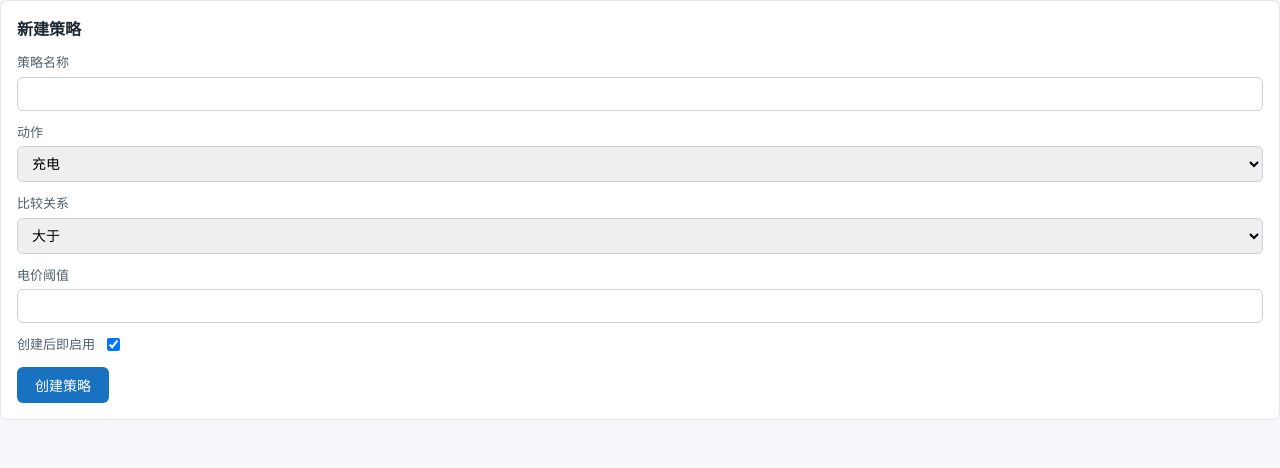
Test: StrategyForm 创建策略（需求 4.3） › 填写并提交后经 POST /api/trading/strategies 提交正确入参并提示成功
// 填写名称与电价阈值（动作/比较关系使用默认 charge / greater_than）
Type "夜间充电" into the field labelled "策略名称" at (640, 94), box [17,76,1263,110]
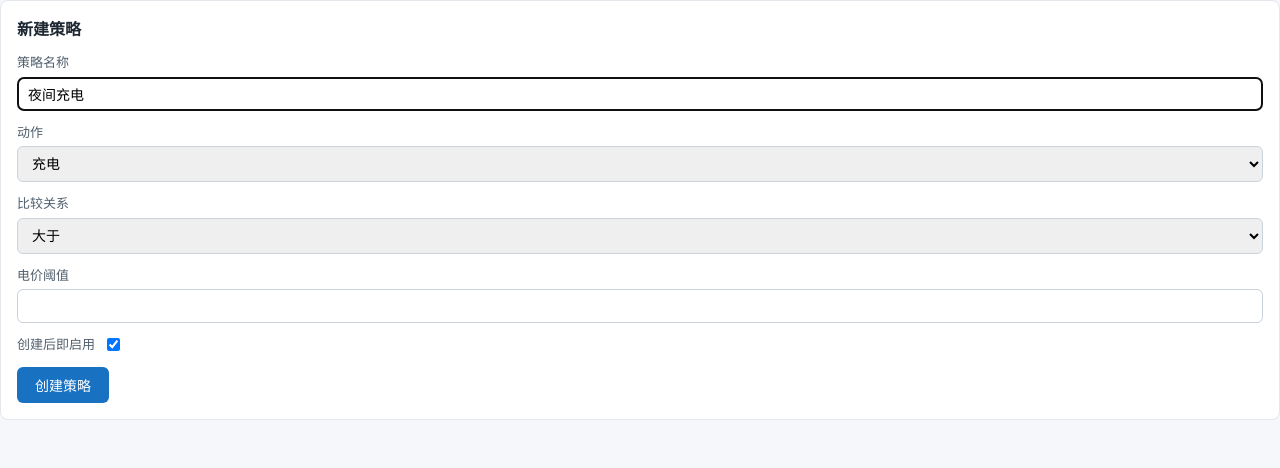
Type "0.5" into the number field labelled "电价阈值" at (640, 306), box [17,289,1263,323]
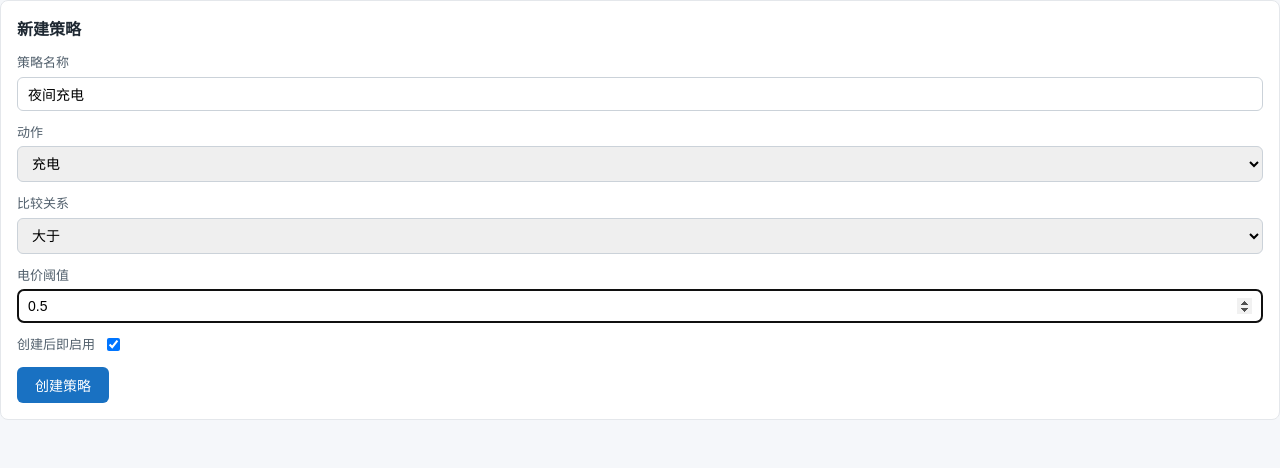
Click the button "创建策略" at (63, 384), box [17,366,109,402]
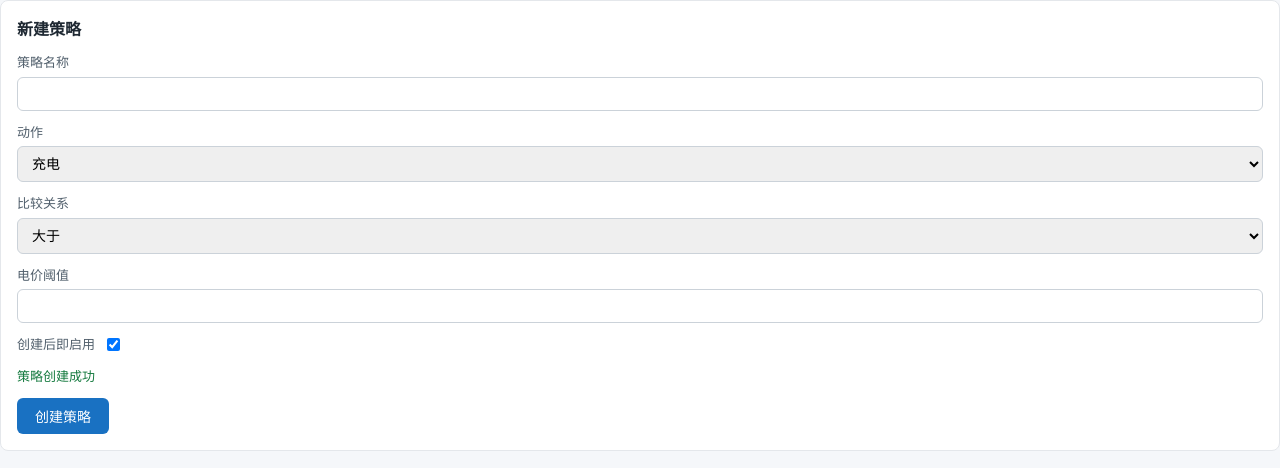
Check: the text "策略创建成功" is shown, box [17,368,95,384]
